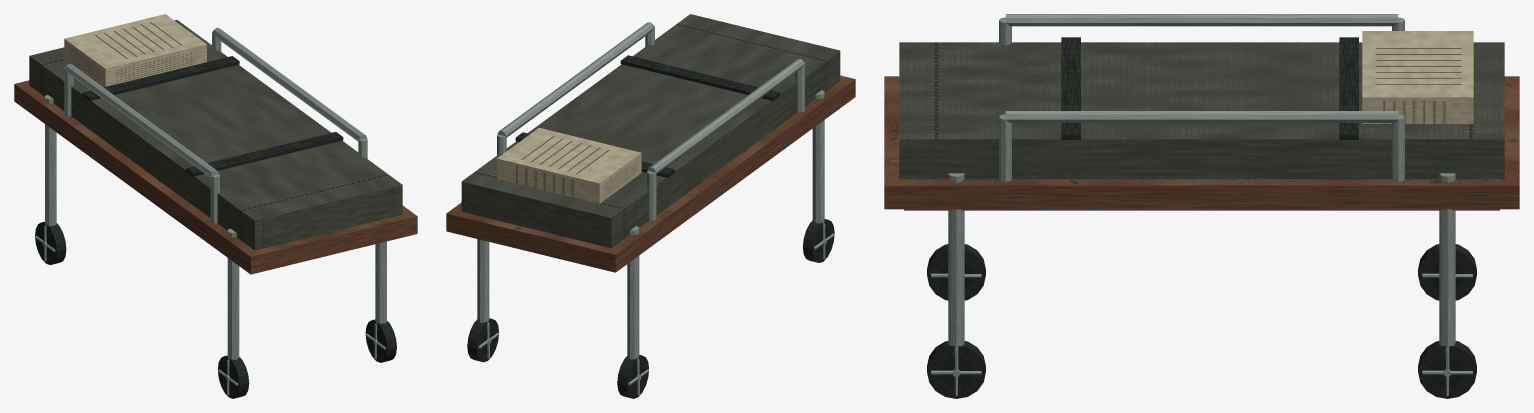
Rendered from Gurney.glb.
3 views of the same model, side by side, from view 1: azimuth 30°, elevation 25°; view 2: azimuth 150°, elevation 25°; view 3: azimuth 270°, elevation 25° (orthographic). The views are drawn at different scales.
Parts seen in each view (by area): view 1: Gurney; view 2: Gurney; view 3: Gurney.
Part boxes in pixels (<box>): Gurney: <box>14,14,417,398</box>; Gurney: <box>446,14,855,398</box>; Gurney: <box>884,14,1519,398</box>.
Size of the model in its own units: 0.79 by 0.96 by 1.94.
Materials: 5 (5 with a texture image).
